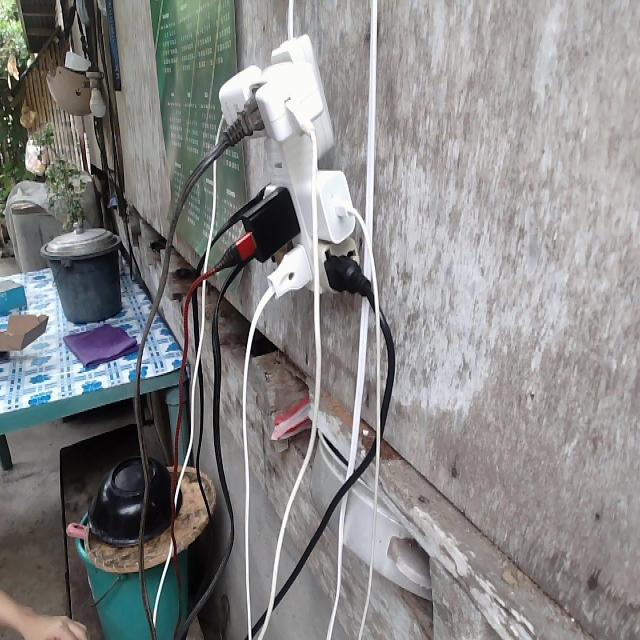-: (207, 35, 364, 300)
